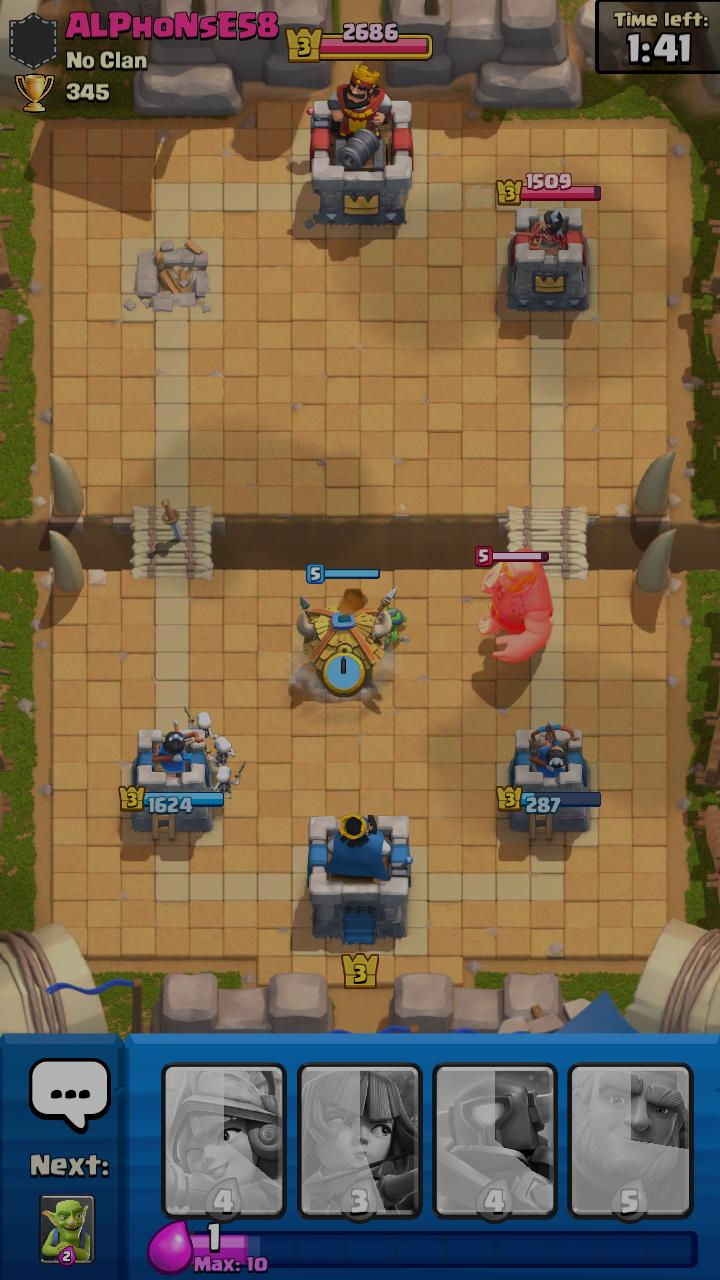ally: (296, 564, 398, 695), (380, 603, 410, 651)
enemy: (475, 546, 554, 663)
